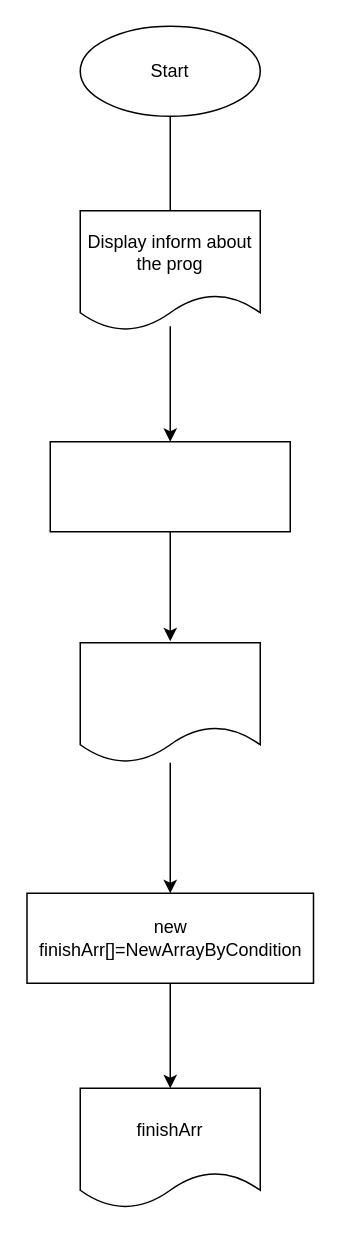
Image size: 339x1235. Some labels were removed from this diagram. The shapes that lost their labels are listed below. From the top down, each one's centre as x and y in pixels, then its label:
pixel 169 486: new arr[] =InputArrayUser
pixel 169 702: arr
